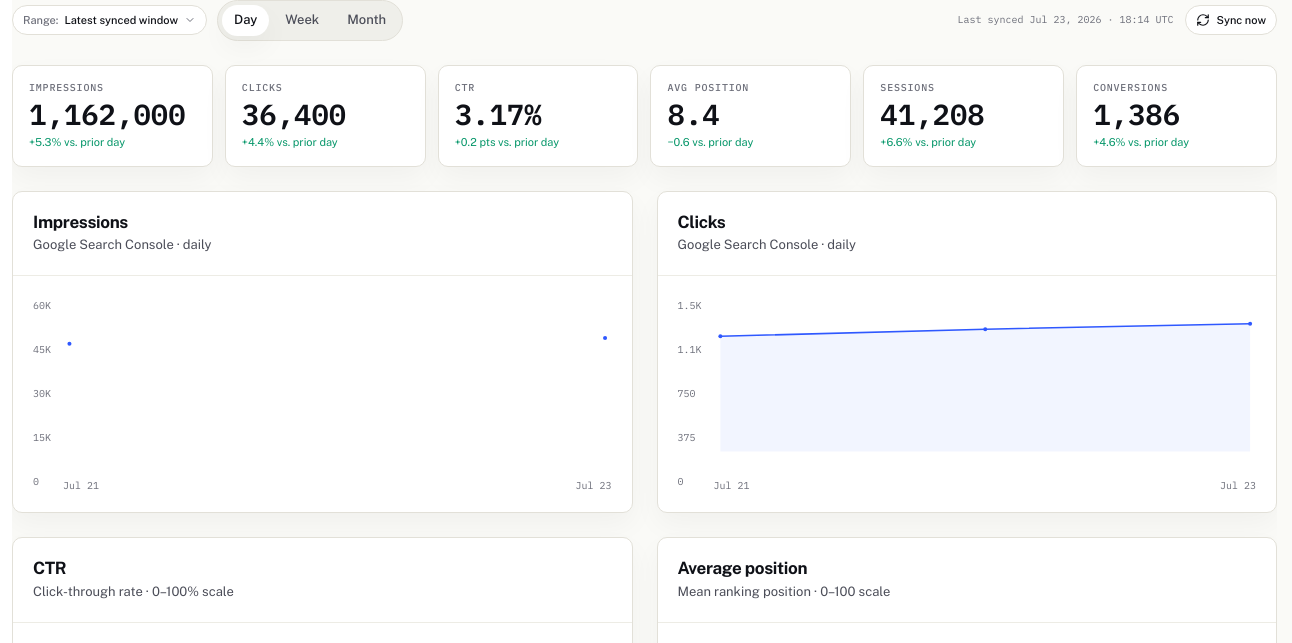
it: TrafficScreen — populated dashboard › refetches with the requested granularity when the segmented control changes
Expected: the element with test id "traffic-stats" is shown, [12,65,1277,167]
Click the radio button labelled "Week". click: (302, 20)
box: [273,5,331,36]
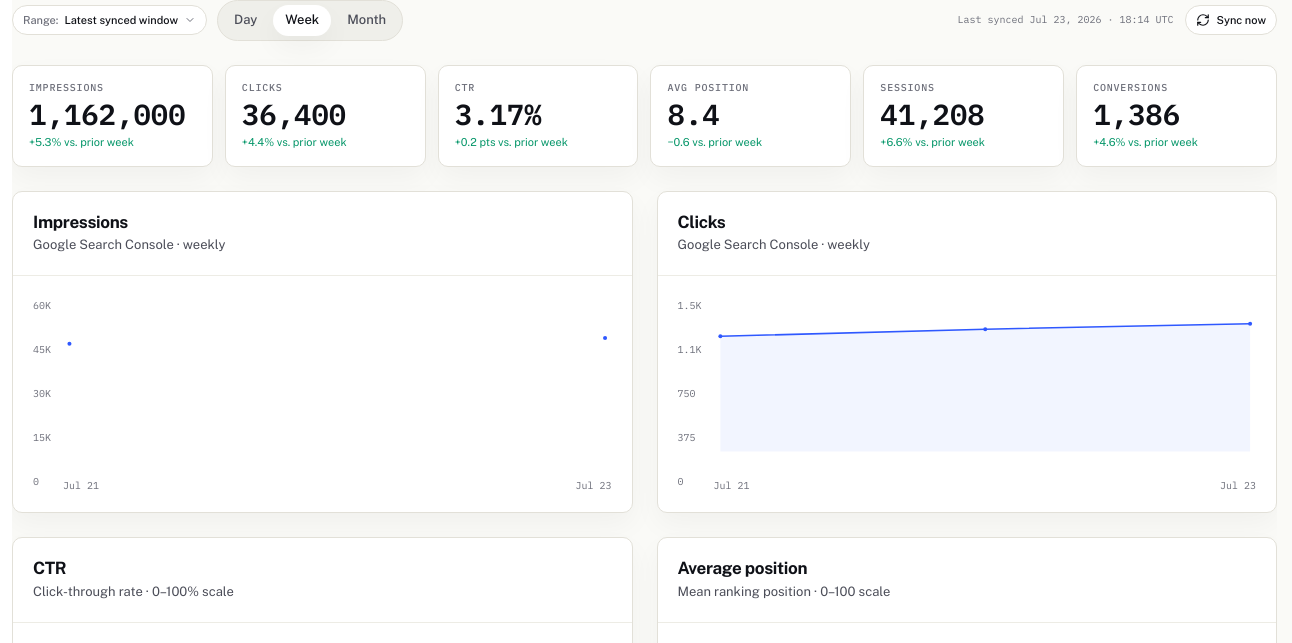
Click the radio button labelled "Month". click: (367, 20)
box: [335,5,398,36]
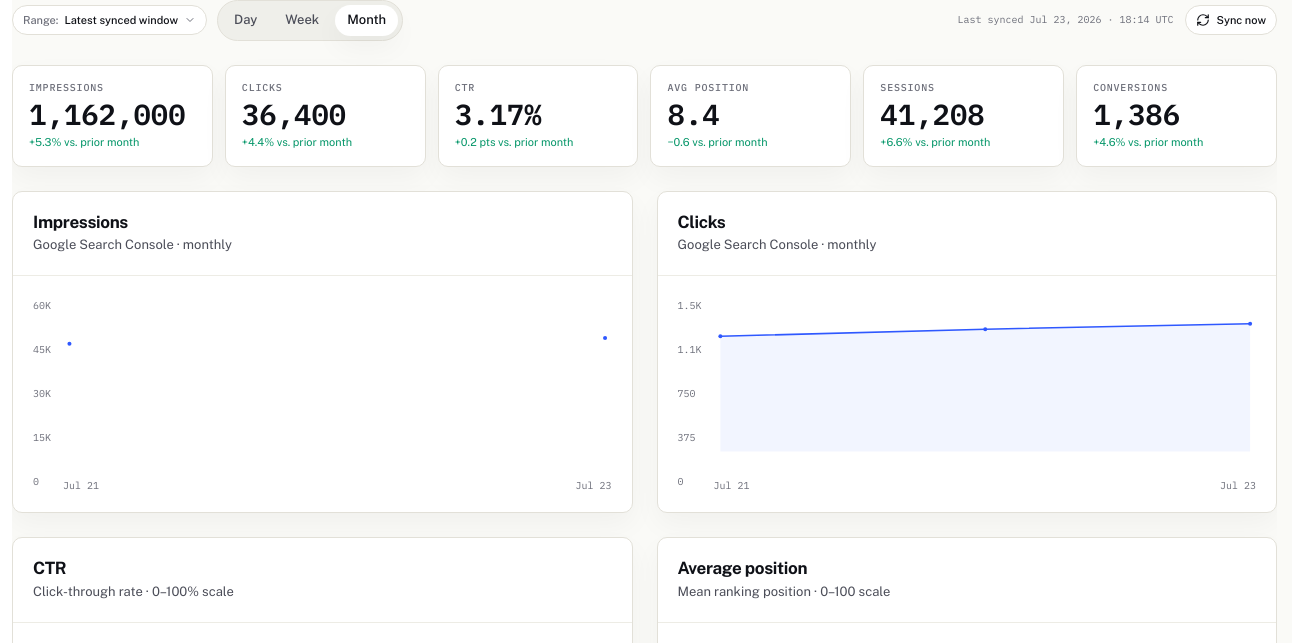
Expected: the element with test id "stat-impressions" shows "vs. prior month", [29,136,139,148]
